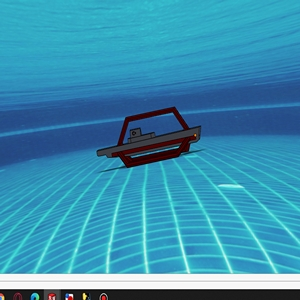submarine: (97, 106, 204, 166)
